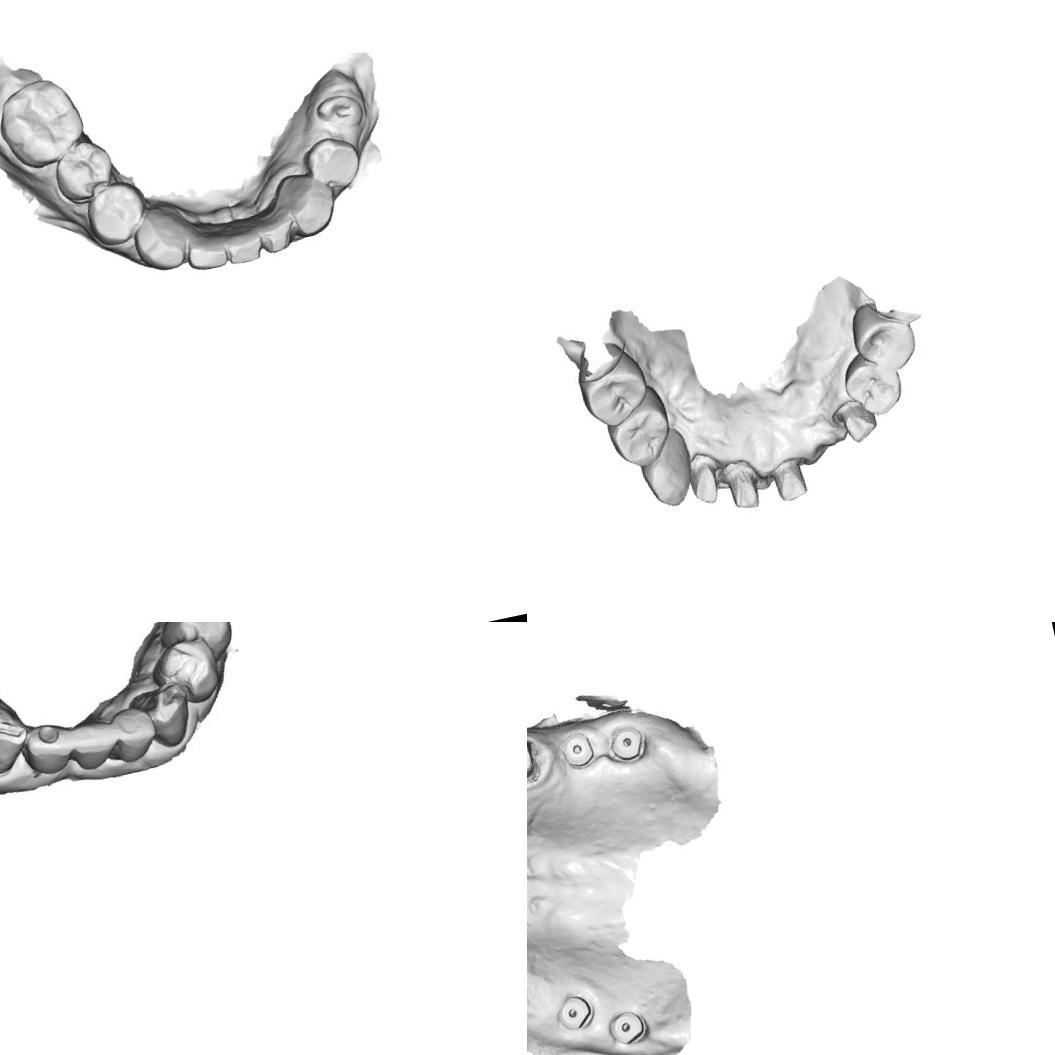canine: (633, 424, 700, 513), (126, 199, 196, 276), (137, 675, 199, 753), (282, 171, 342, 240)
crown: (829, 395, 881, 448), (684, 447, 728, 509), (764, 452, 813, 506), (721, 456, 765, 514), (527, 730, 543, 785)
implant: (551, 990, 596, 1036), (604, 1005, 650, 1049), (558, 726, 600, 773), (606, 721, 649, 765)
incisor: (22, 716, 80, 778), (106, 694, 158, 760), (70, 714, 119, 768), (218, 216, 266, 268), (182, 230, 231, 274), (255, 211, 298, 257), (0, 716, 26, 773)
molar: (0, 69, 92, 175)
premolar: (572, 348, 656, 434), (600, 383, 678, 475), (145, 633, 228, 715), (843, 295, 923, 380), (80, 176, 154, 251), (837, 348, 907, 424), (47, 130, 114, 204), (300, 131, 365, 195), (150, 622, 241, 667)
